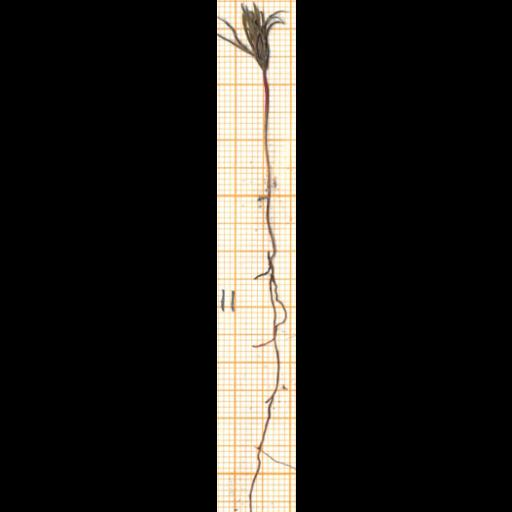flowerPinus: (221, 2, 283, 71)
rootPinus: (249, 202, 294, 510), (251, 203, 286, 490)
stemPinus: (261, 69, 270, 201)
